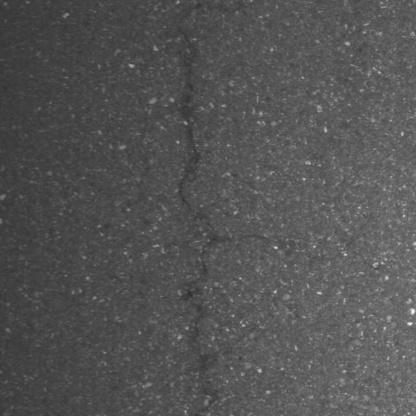Cracks: (182, 216, 223, 416), (174, 0, 207, 213)
